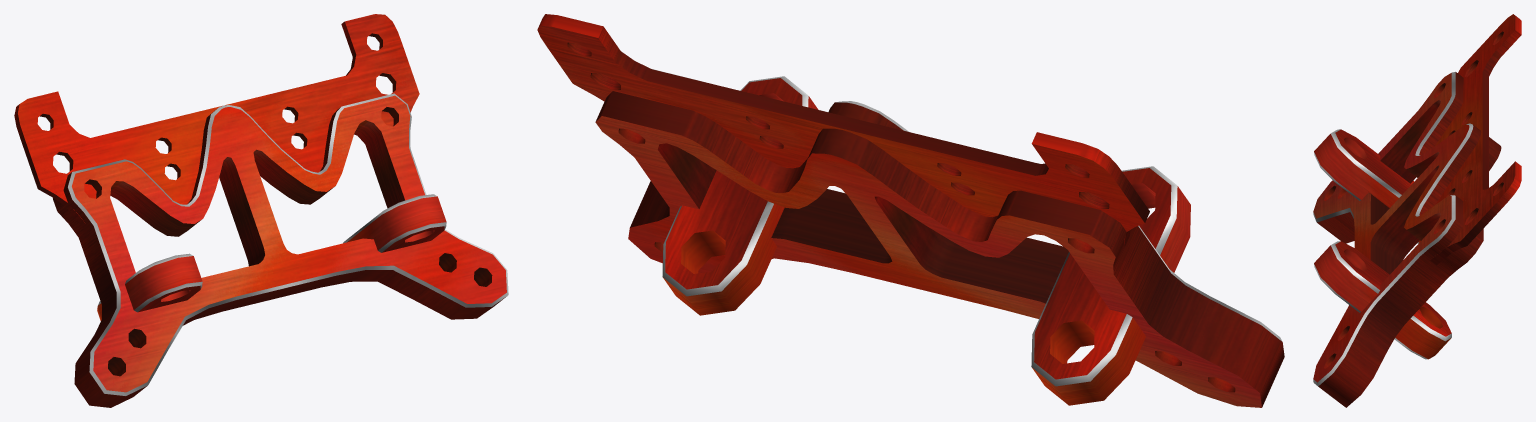
Rendered from bodyholder05.FBX.
The picture shows the model from 3 angles, left to right: view 1: azimuth 30°, elevation 25°; view 2: azimuth 150°, elevation 25°; view 3: azimuth 270°, elevation 25°; orthographic projection. The views are drawn at different scales.
Visible parts, largest first — view 1: bodyholder05; view 2: bodyholder05; view 3: bodyholder05.
Boxes of the visible parts, x1,y1,x2,y2 form: bodyholder05: (14,14,508,407); bodyholder05: (537,14,1284,407); bodyholder05: (1313,14,1521,407).
Bounding box in the file's own units: 0.5676 × 0.3105 × 0.2612.
